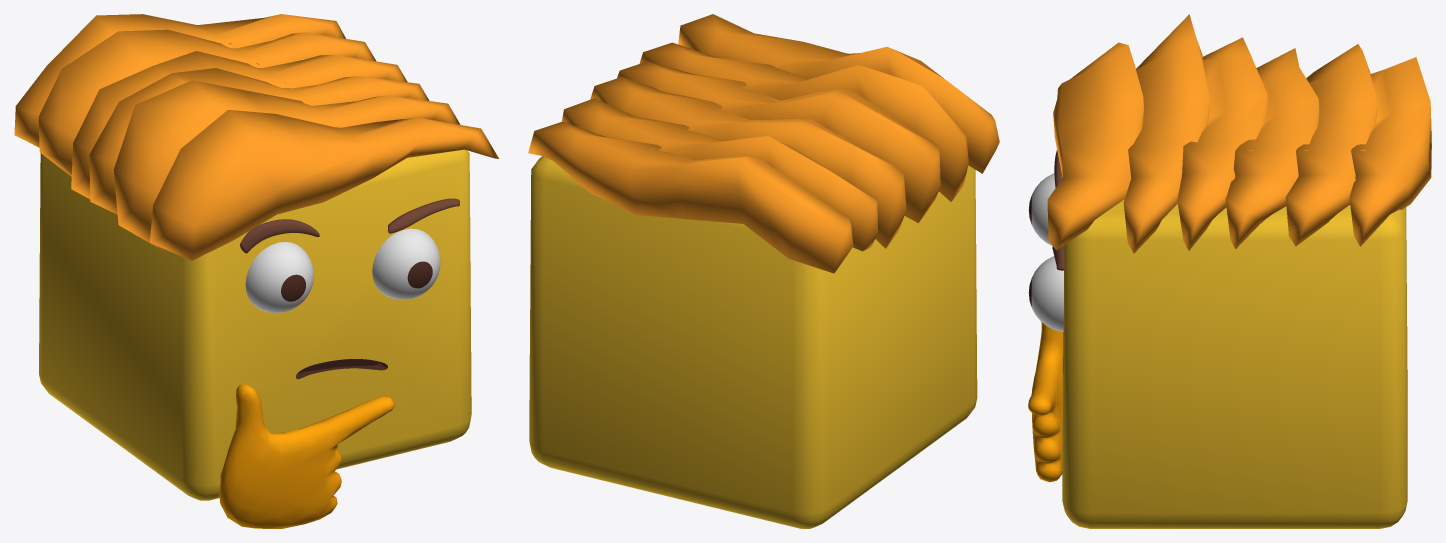
The model's file is Thinking.fbx.
3 views of the same model, side by side, from view 1: azimuth 30°, elevation 25°; view 2: azimuth 150°, elevation 25°; view 3: azimuth 270°, elevation 25° (orthographic). The views are drawn at different scales.
Parts seen in each view (by area): view 1: Thinking; view 2: Thinking; view 3: Thinking.
Part boxes in pixels (left/top/right/bottom): Thinking: left=14, top=14, right=498, bottom=528; Thinking: left=528, top=14, right=999, bottom=528; Thinking: left=1028, top=14, right=1431, bottom=528.
Size of the model in its own units: 525 by 606 by 528.
